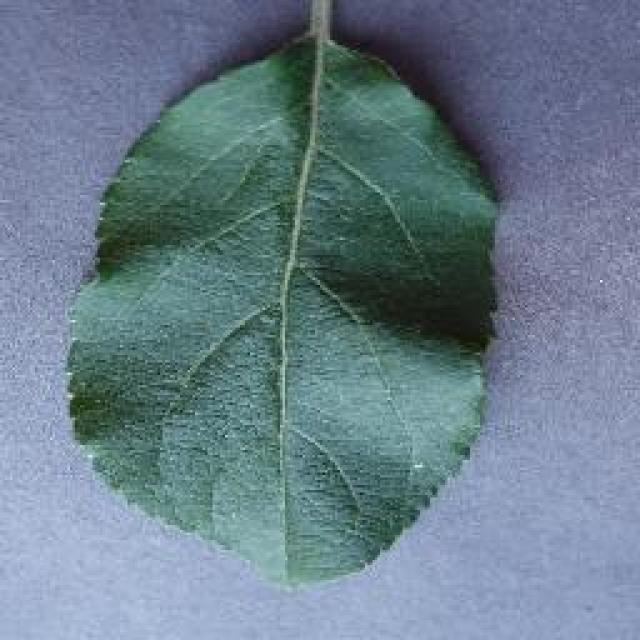apple healthy: (63, 10, 505, 590)
